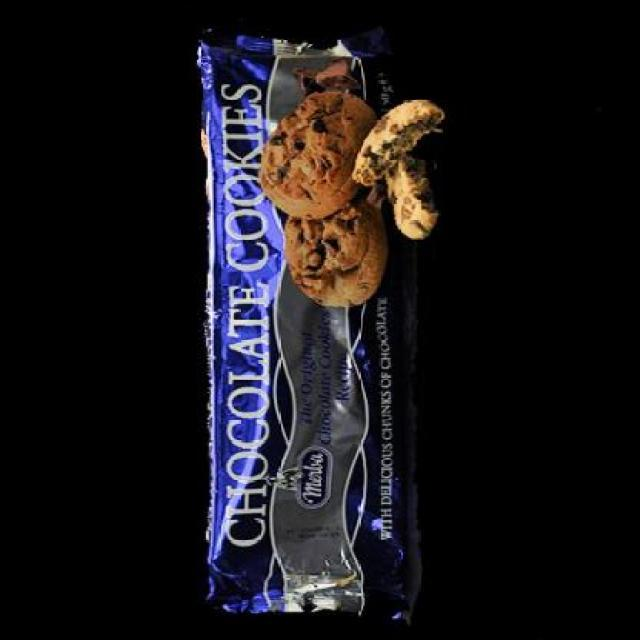Cookie: (202, 36, 400, 614), (353, 94, 449, 246), (258, 88, 370, 218)
